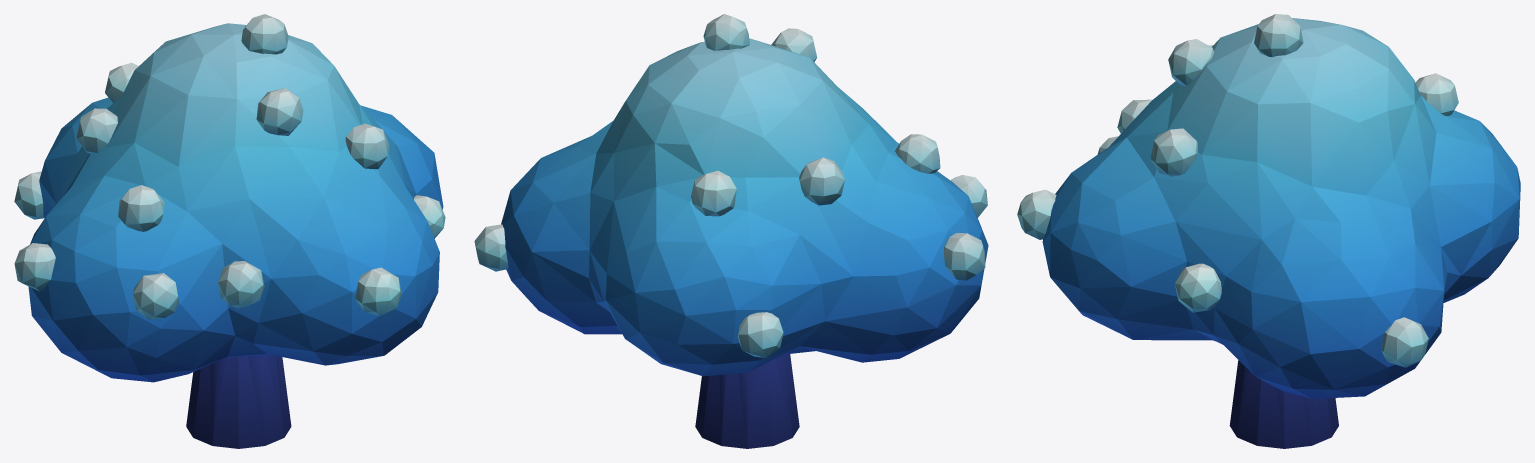
File: Plasmaberry_Bush.glb
3 renders of one model, left to right at view 1: azimuth 30°, elevation 25°; view 2: azimuth 150°, elevation 25°; view 3: azimuth 270°, elevation 25°, orthographic. The views are drawn at different scales.
Visible parts, largest first — view 1: Plasmaberry_Bush; view 2: Plasmaberry_Bush; view 3: Plasmaberry_Bush.
Part boxes in pixels (x1=…): Plasmaberry_Bush: x1=14, y1=14, x2=445, y2=448; Plasmaberry_Bush: x1=474, y1=14, x2=988, y2=448; Plasmaberry_Bush: x1=1017, y1=14, x2=1520, y2=448.
Bounding box in the file's own units: 3.5 × 3.06 × 3.31.
